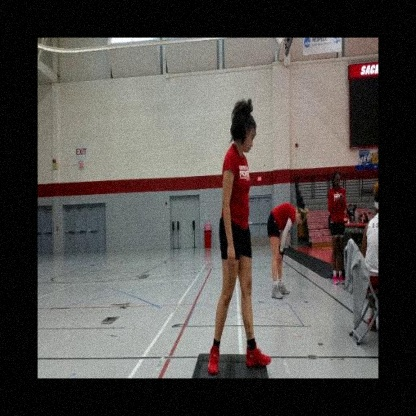lateral_flexion_normal: (206, 94, 273, 378)
stance_width_broad: (207, 140, 273, 378)
